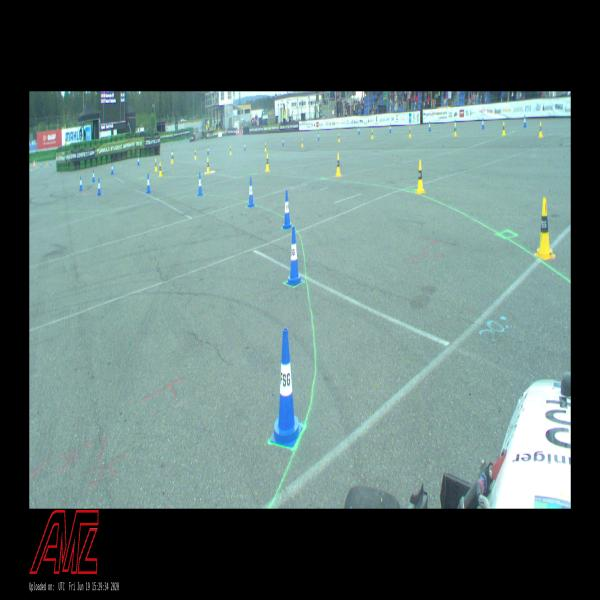blue_cone: (271, 328, 302, 447), (286, 227, 302, 286), (282, 190, 292, 229), (248, 177, 255, 207), (197, 172, 203, 196), (146, 174, 151, 193), (97, 178, 102, 195), (79, 176, 82, 191), (92, 170, 95, 182), (111, 164, 114, 174), (428, 121, 431, 131), (524, 115, 526, 127), (482, 118, 484, 129), (138, 155, 140, 165), (390, 124, 392, 133), (244, 142, 246, 151), (207, 146, 209, 154), (358, 126, 360, 134), (318, 132, 320, 140), (282, 138, 284, 146)
yellow_cone: (536, 198, 556, 259), (416, 160, 425, 194), (336, 152, 342, 176), (265, 153, 270, 172), (538, 121, 543, 138), (158, 162, 163, 176), (206, 157, 210, 174), (502, 121, 506, 135), (154, 158, 158, 172), (194, 148, 197, 160), (171, 151, 174, 163), (371, 129, 374, 139), (301, 138, 304, 148), (454, 124, 456, 136), (409, 126, 411, 138), (264, 142, 266, 151), (338, 133, 340, 142), (230, 146, 231, 154)
